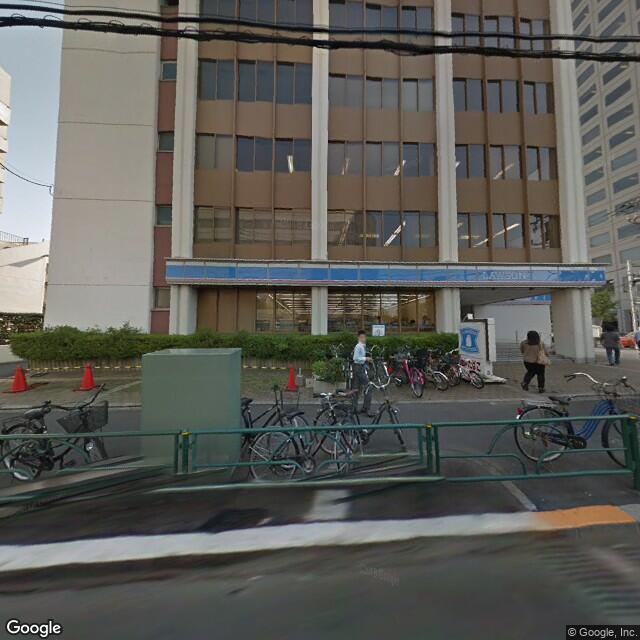lawson: (160, 256, 609, 292), (456, 320, 482, 358)
